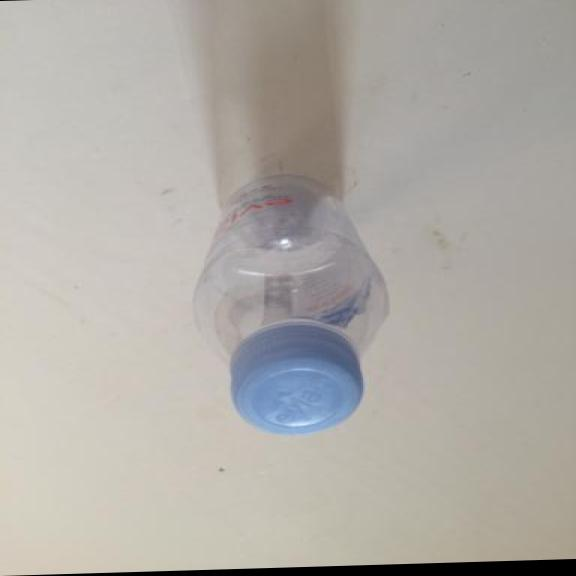Plastik: (186, 165, 390, 443)
